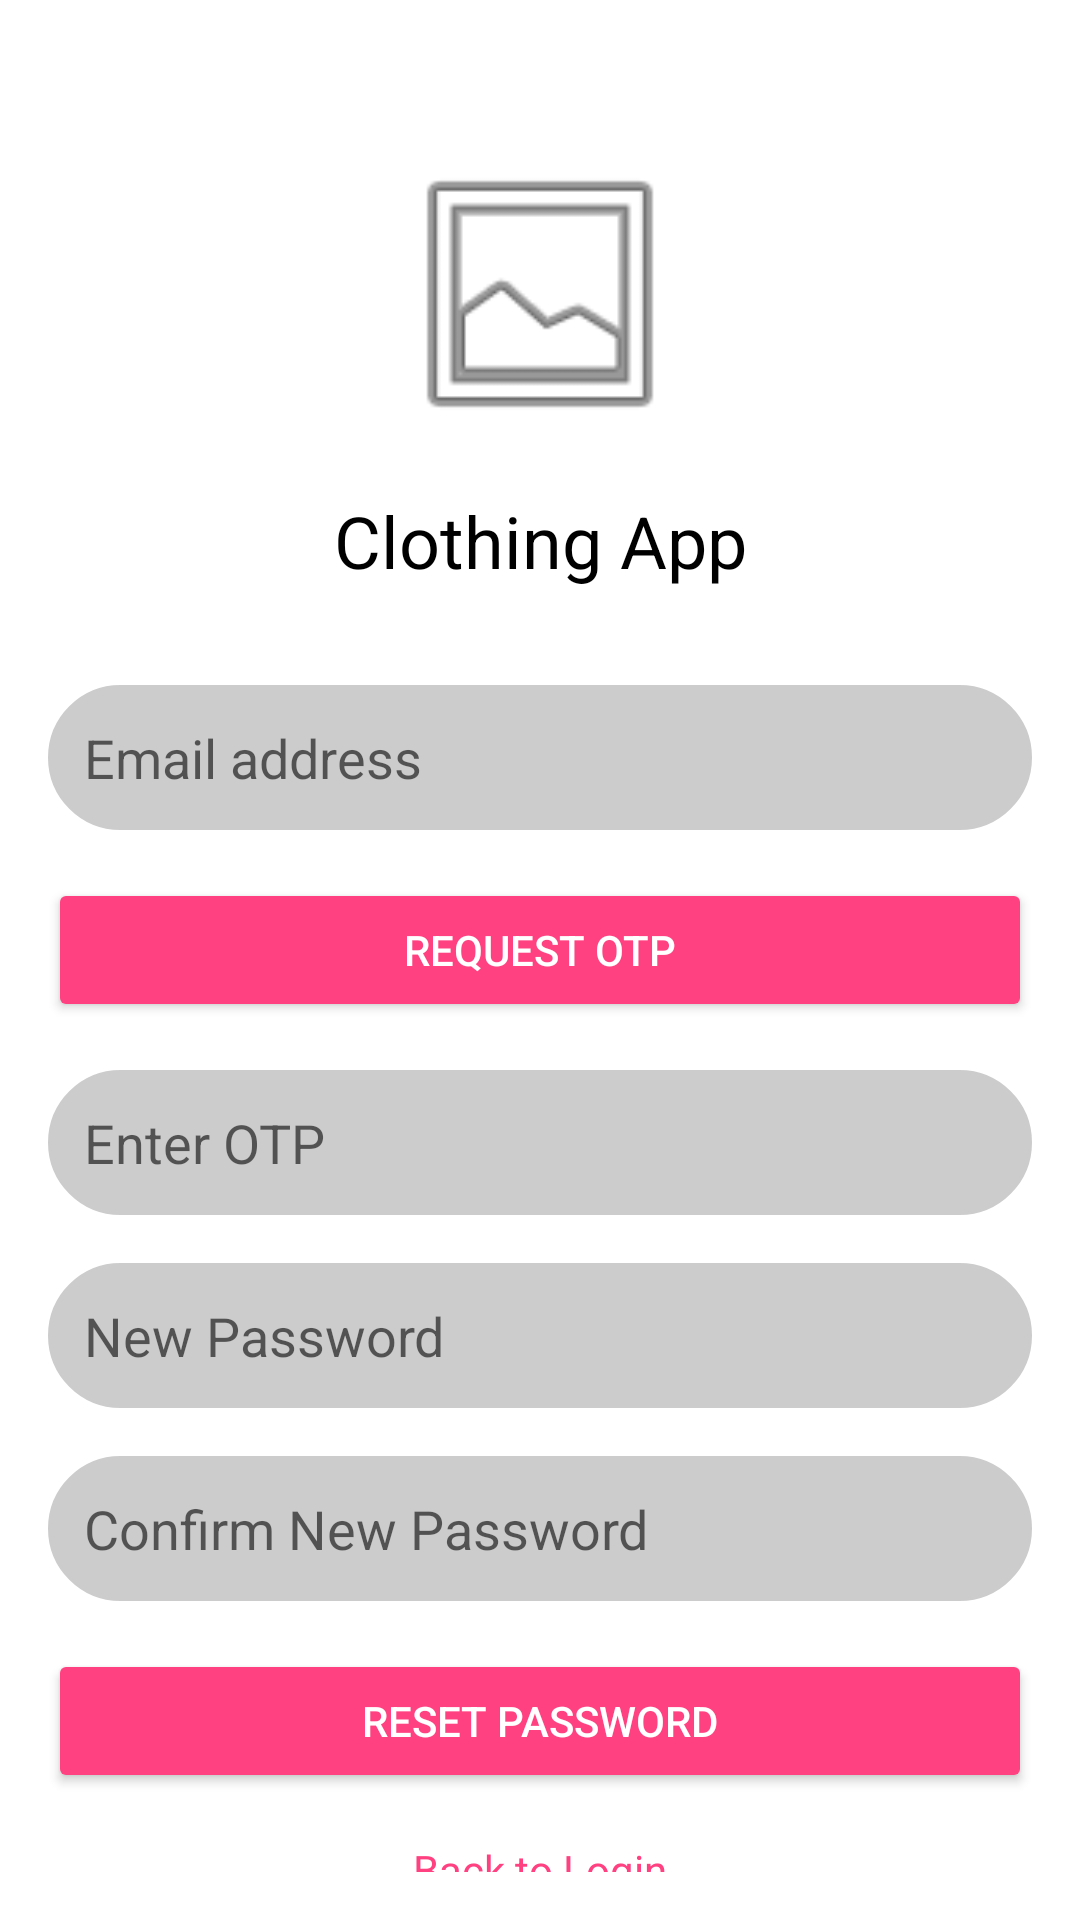

Icon click points for this 1080×1920 phone screenshot, format (x=x, y=y):
gallery: (x=540, y=294)
